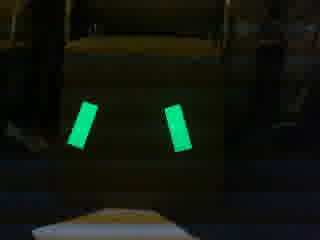target: (67, 100, 192, 154)
